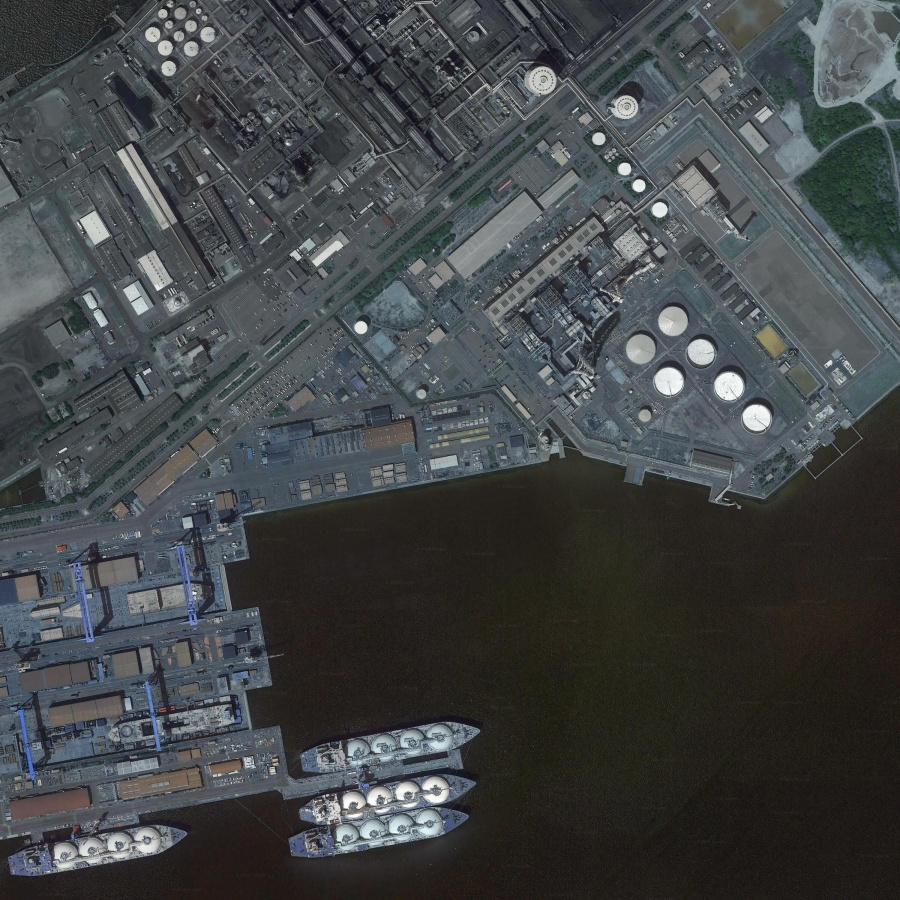PowerPlant: (494, 52, 794, 432)
